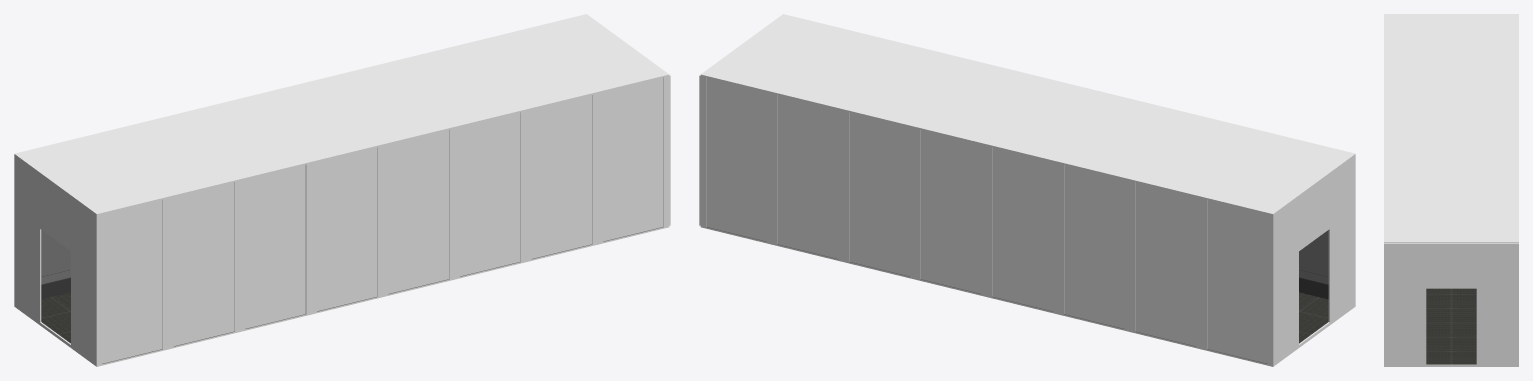
File: CZTunnel1.fbx
3 views of the same model, side by side, from view 1: azimuth 30°, elevation 25°; view 2: azimuth 150°, elevation 25°; view 3: azimuth 270°, elevation 25° (orthographic). The views are drawn at different scales.
Parts seen in each view (by area): view 1: node_id94, node_id97 (×17), node_id55, node_id58, node_id40, node_id46, node_id61, node_id43, node_id49, node_id52, node_id64, node_id91 (×2) (+1 smaller); view 2: node_id94, node_id97 (×16), node_id82, node_id70, node_id85, node_id67, node_id73, node_id76, node_id79, node_id88, node_id40, node_id91 (×2) (+1 smaller); view 3: node_id94, node_id36, node_id91 (×2).
Boxes of the visible parts, <box> form: node_id94: <box>14,14,669,215</box>; node_id97 (×17): <box>14,76,669,364</box>; node_id55: <box>95,199,162,364</box>; node_id58: <box>173,182,234,346</box>; node_id40: <box>20,160,98,365</box>; node_id46: <box>460,112,520,276</box>; node_id61: <box>245,165,305,328</box>; node_id43: <box>388,130,448,293</box>; node_id49: <box>531,95,591,258</box>; node_id52: <box>603,77,663,241</box>; node_id64: <box>317,147,377,311</box>; node_id91 (×2): <box>14,226,669,366</box>; node_id94: <box>700,14,1355,215</box>; node_id97 (×16): <box>700,76,1279,365</box>; node_id82: <box>1135,182,1196,346</box>; node_id70: <box>849,112,909,276</box>; node_id85: <box>1064,165,1124,328</box>; node_id67: <box>921,130,981,293</box>; node_id73: <box>778,95,838,258</box>; node_id76: <box>706,77,766,241</box>; node_id79: <box>1207,199,1267,363</box>; node_id88: <box>992,147,1052,311</box>; node_id40: <box>1279,155,1355,360</box>; node_id91 (×2): <box>700,226,1355,366</box>; node_id94: <box>1384,14,1518,243</box>; node_id36: <box>1384,243,1518,366</box>; node_id91 (×2): <box>1384,288,1518,366</box>.
Size of what is drawn, in the model's own units: 0.512 by 0.1302 by 0.1277.
Materials: 72 (20 with a texture image).
